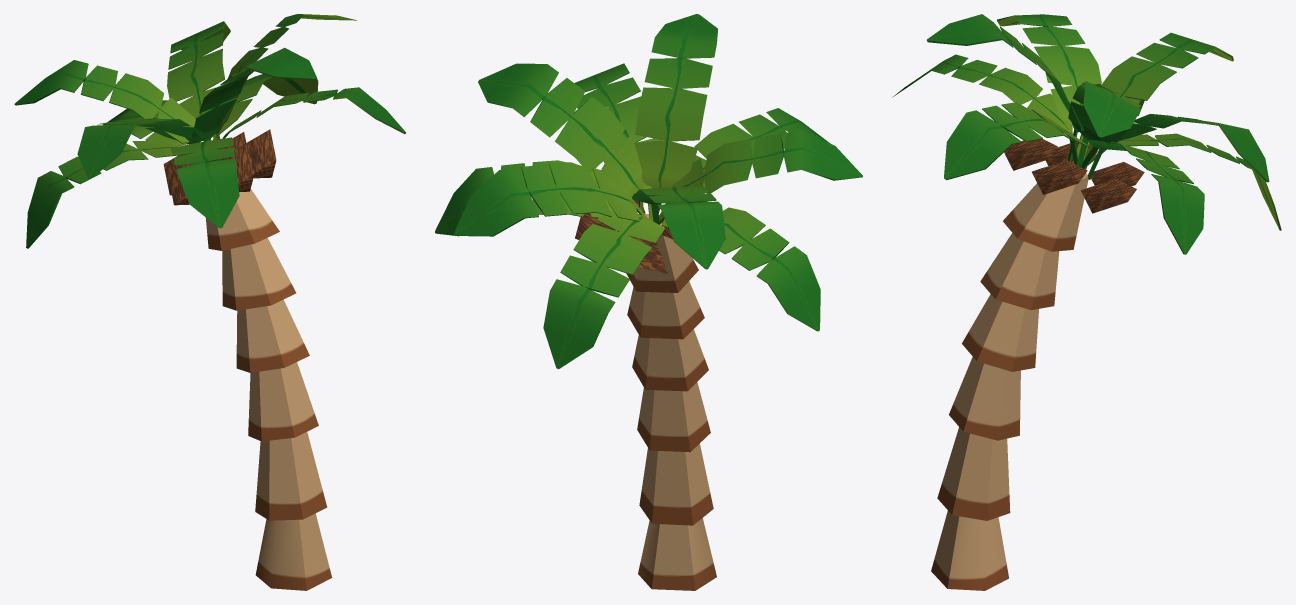
File: Large_palm50percent.fbx
3 renders of one model, left to right at view 1: azimuth 30°, elevation 25°; view 2: azimuth 150°, elevation 25°; view 3: azimuth 270°, elevation 25°, orthographic. The views are drawn at different scales.
Visible parts, largest first — view 1: PalmTree8; view 2: PalmTree8; view 3: PalmTree8.
Boxes of the visible parts, <box> form: PalmTree8: <box>14,14,406,590</box>; PalmTree8: <box>435,14,862,590</box>; PalmTree8: <box>892,14,1281,590</box>.
Size of the model in its own units: 6.67 by 10.1 by 6.62.
